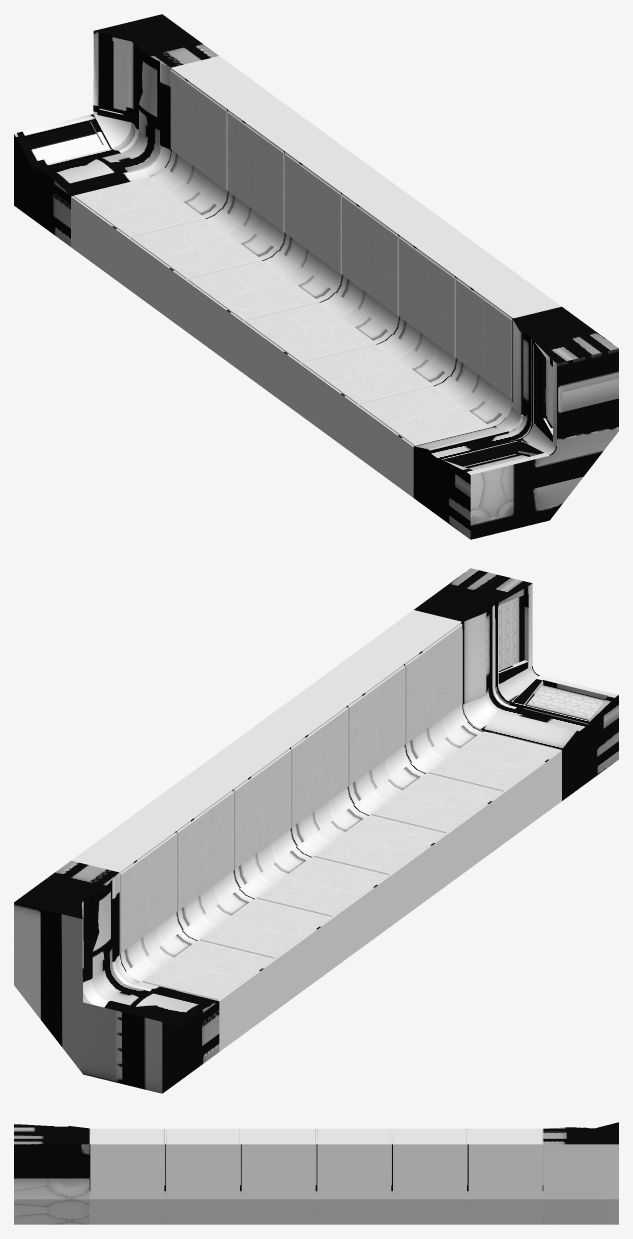
Rendered from WallCornerIn_6.fbx.
The picture shows the model from 3 angles, top to bottom: view 1: azimuth 30°, elevation 25°; view 2: azimuth 150°, elevation 25°; view 3: azimuth 270°, elevation 25°; orthographic projection. The views are drawn at different scales.
Parts seen in each view (by area): view 1: WallCornerIn_6; view 2: WallCornerIn_6; view 3: WallCornerIn_6.
Boxes of the visible parts, box(x1,y1,x2,y2) form: WallCornerIn_6: box(14, 14, 618, 539); WallCornerIn_6: box(14, 568, 618, 1093); WallCornerIn_6: box(14, 1122, 618, 1224).
Size of the model in its own units: 1.5 by 1.5 by 8.
